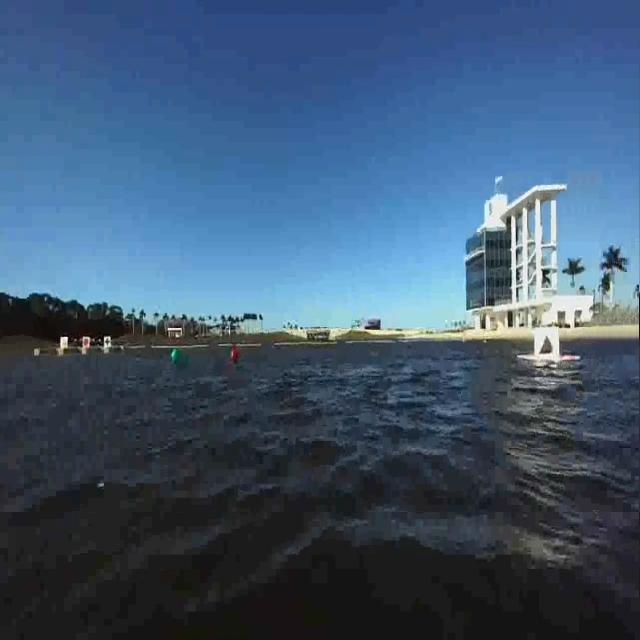green-buoy: (172, 349, 180, 361)
red-buoy: (233, 348, 242, 362)
